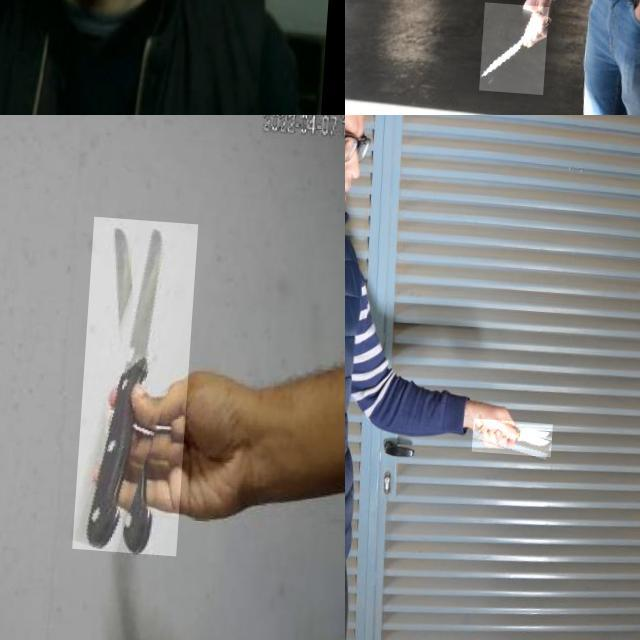-: (79, 212, 201, 550), (484, 0, 552, 89), (477, 413, 557, 451)
gun-knife-thesis - v11 Yolov5 augmented: (0, 0, 83, 115)
